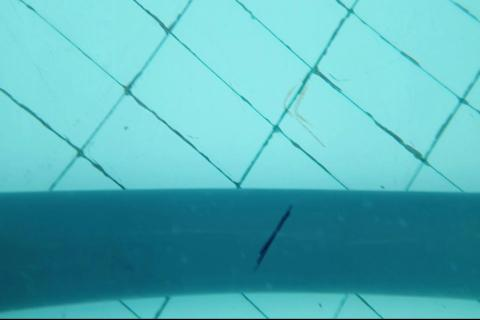keretakan: (253, 204, 292, 273)
